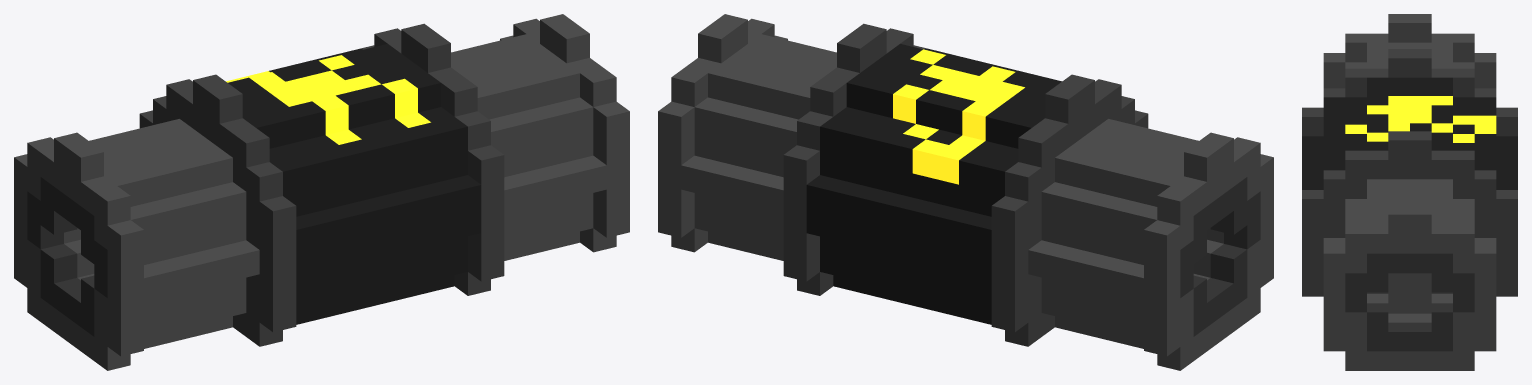
The model's file is item_EXOTIC_RAIDO.glb.
The picture shows the model from 3 angles, left to right: view 1: azimuth 30°, elevation 25°; view 2: azimuth 150°, elevation 25°; view 3: azimuth 270°, elevation 25°; orthographic projection. The views are drawn at different scales.
Parts seen in each view (by area): view 1: item_EXOTIC_RAIDO; view 2: item_EXOTIC_RAIDO; view 3: item_EXOTIC_RAIDO.
Boxes of the visible parts, x1,y1,x2,y2 form: item_EXOTIC_RAIDO: [14, 14, 629, 370]; item_EXOTIC_RAIDO: [658, 14, 1273, 370]; item_EXOTIC_RAIDO: [1302, 14, 1517, 370].
Bounding box in the file's own units: 0.5 × 0.2045 × 0.2273.
Materials: 1 (1 with a texture image).
